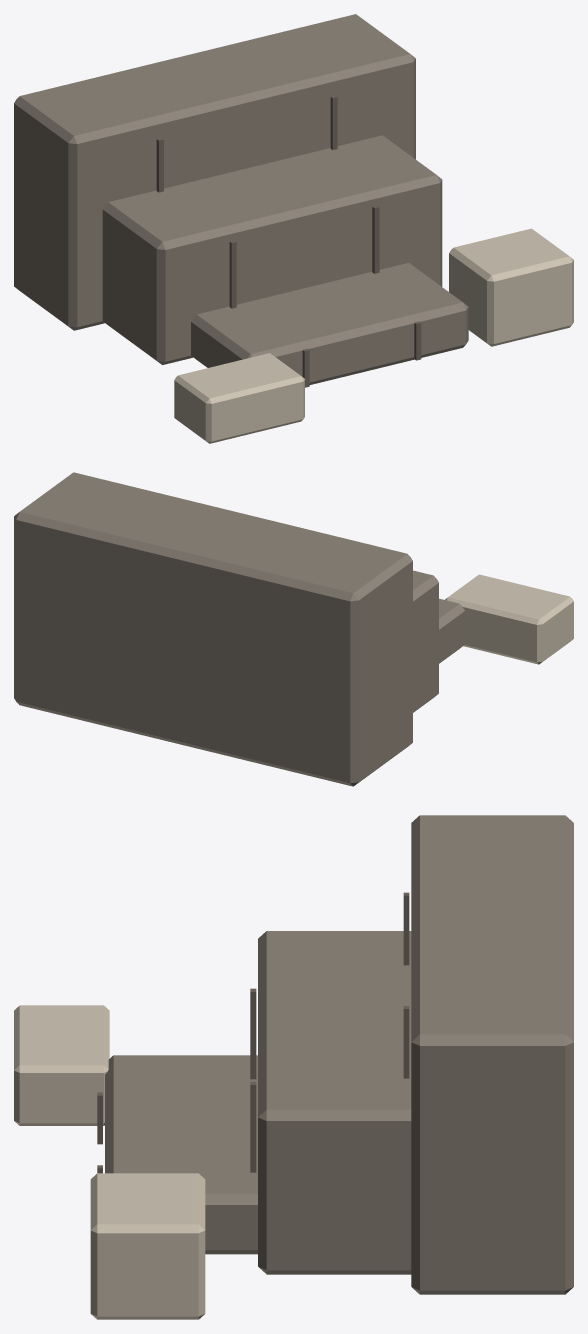
The model's file is imp_quarry.glb.
3 views of the same model, one above another, from view 1: azimuth 30°, elevation 25°; view 2: azimuth 150°, elevation 25°; view 3: azimuth 270°, elevation 25° (orthographic). The views are drawn at different scales.
Parts seen in each view (by area): view 1: imp_quarry; view 2: imp_quarry; view 3: imp_quarry.
Part boxes in pixels (box(x1,y1,x2,y2)): imp_quarry: box(14, 14, 573, 443); imp_quarry: box(14, 472, 573, 786); imp_quarry: box(14, 815, 573, 1319).
Bounding box in the file's own units: 0.64 × 0.3 × 0.585.
